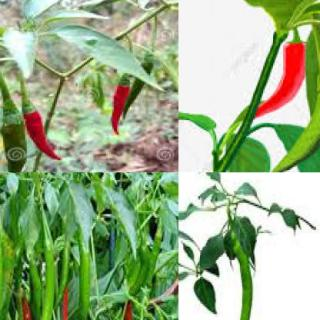green_chilli: (268, 87, 320, 171), (222, 229, 252, 319), (24, 243, 57, 319), (120, 59, 160, 120), (3, 114, 29, 171), (74, 248, 92, 318), (54, 247, 74, 310), (128, 243, 150, 296), (28, 258, 45, 320), (150, 218, 163, 272)
